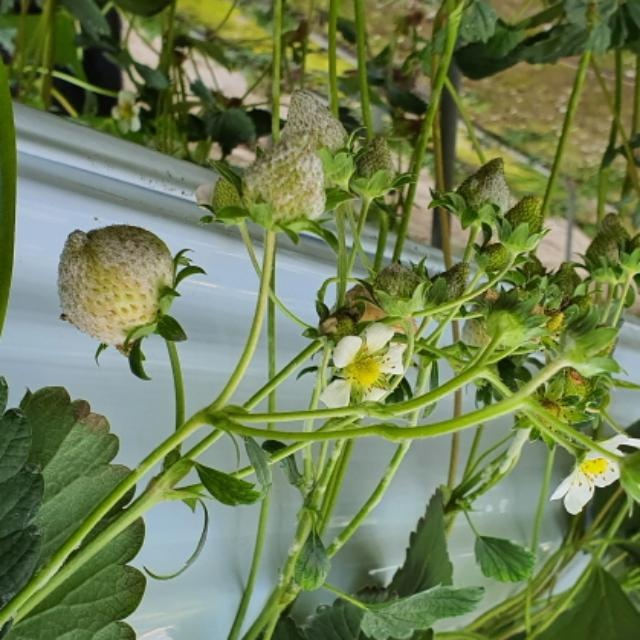Powdery Mildew Fruit: (55, 222, 178, 345), (239, 142, 328, 234), (280, 91, 353, 186), (453, 158, 510, 224)
